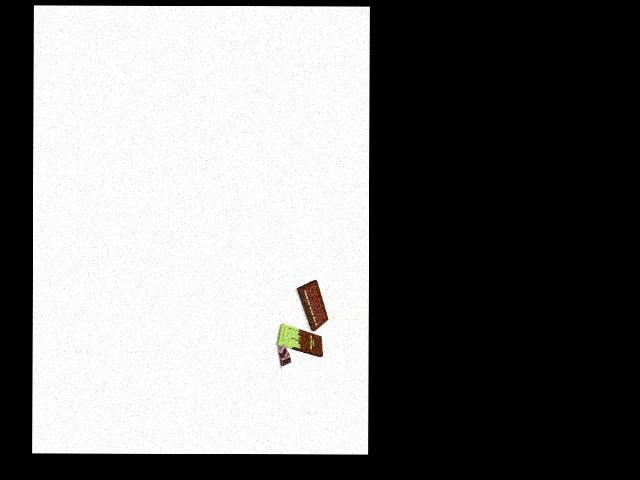chocolate: (274, 325, 323, 353)
